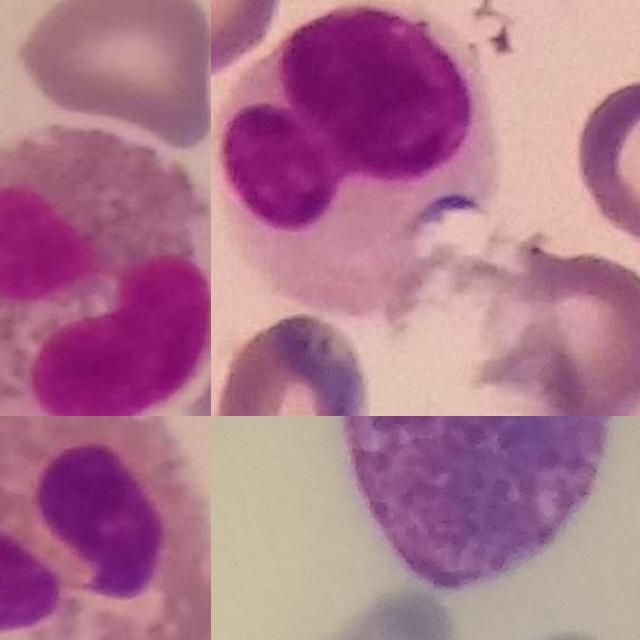Basophil: (341, 416, 615, 592)
Eosinophil: (0, 127, 211, 416), (0, 416, 211, 640)
Monocyte: (211, 2, 499, 312)
